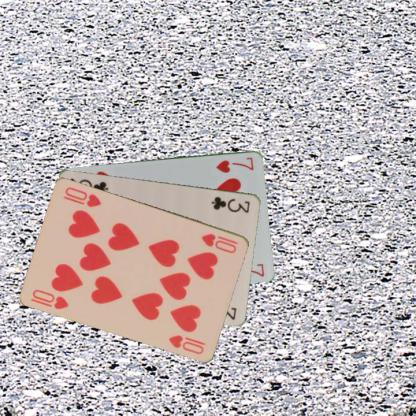10h: (199, 230, 239, 255), (28, 287, 70, 310)
3c: (209, 193, 251, 214)
7h: (214, 154, 255, 174)
